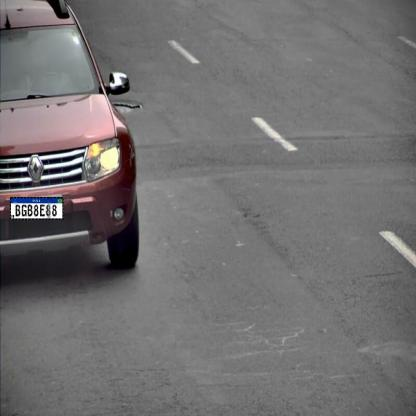PlacaM: (10, 197, 63, 220)
